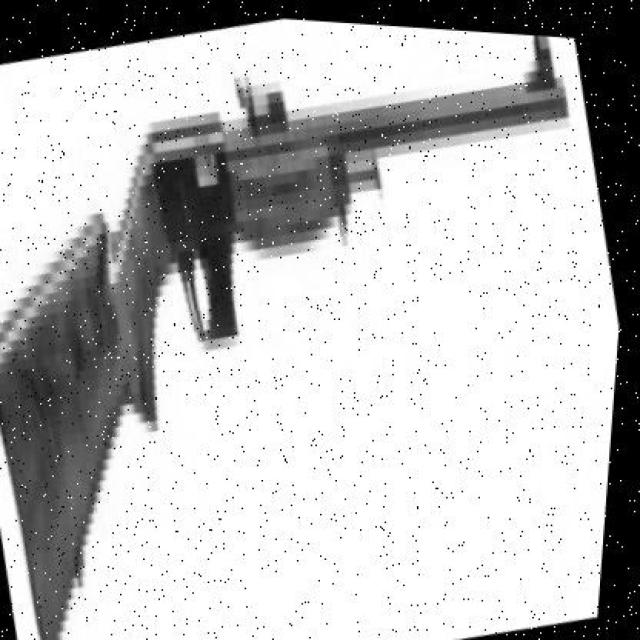weapon: (0, 33, 572, 638)
